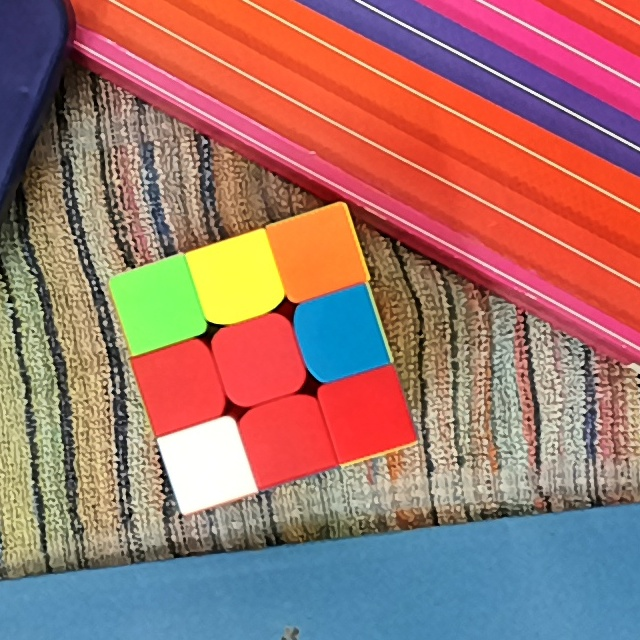tile: (123, 274, 188, 337), (253, 408, 319, 469), (284, 222, 349, 283), (226, 329, 292, 389), (149, 356, 210, 417), (335, 384, 398, 442), (172, 436, 236, 492), (311, 303, 368, 364), (204, 251, 268, 305)
